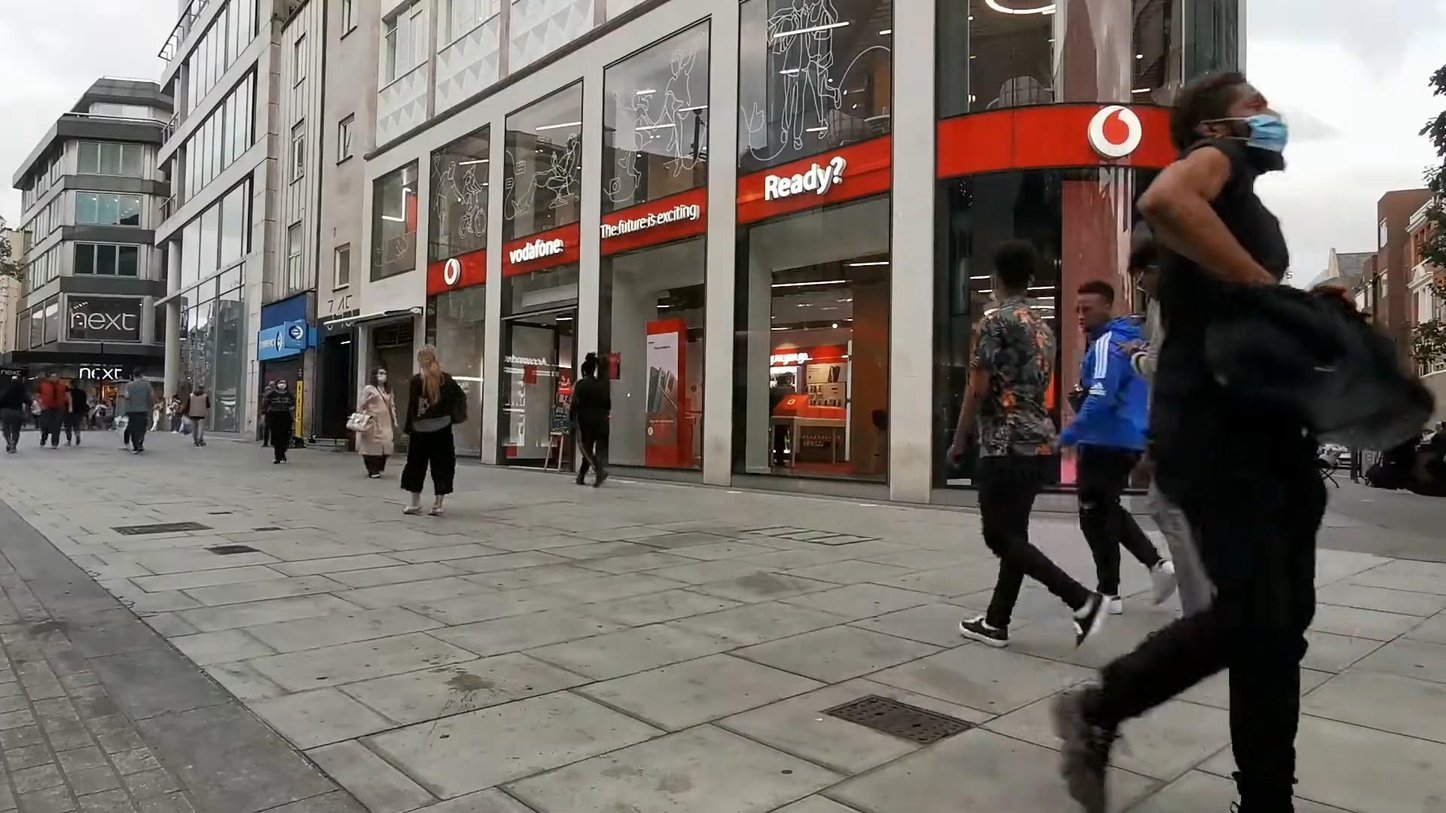no-helmet: (1168, 71, 1288, 173), (990, 239, 1037, 301), (1076, 280, 1114, 332), (1127, 249, 1160, 302), (417, 343, 443, 372), (371, 366, 388, 385), (275, 378, 289, 391)
